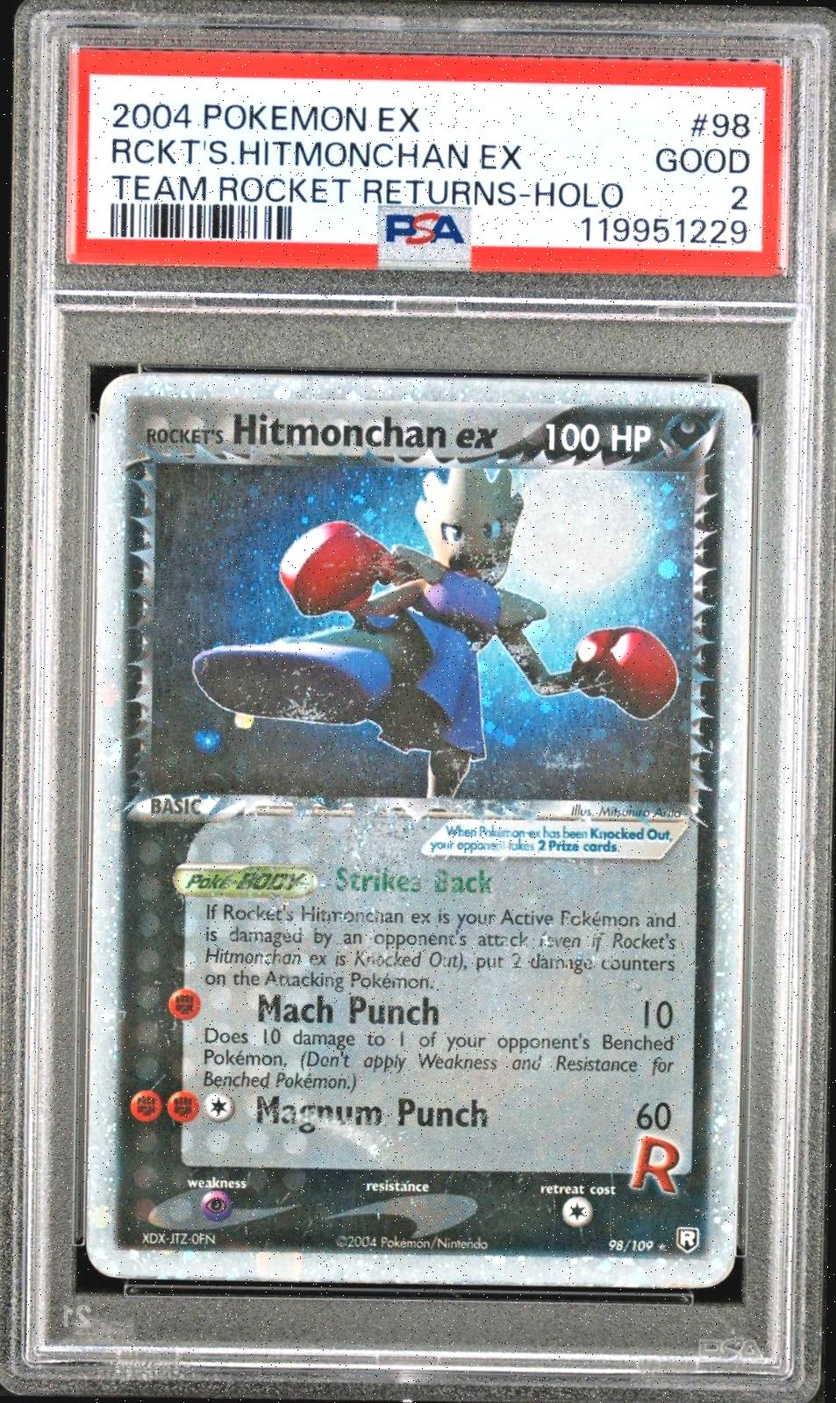card-2UtV: (85, 373, 751, 1289)
